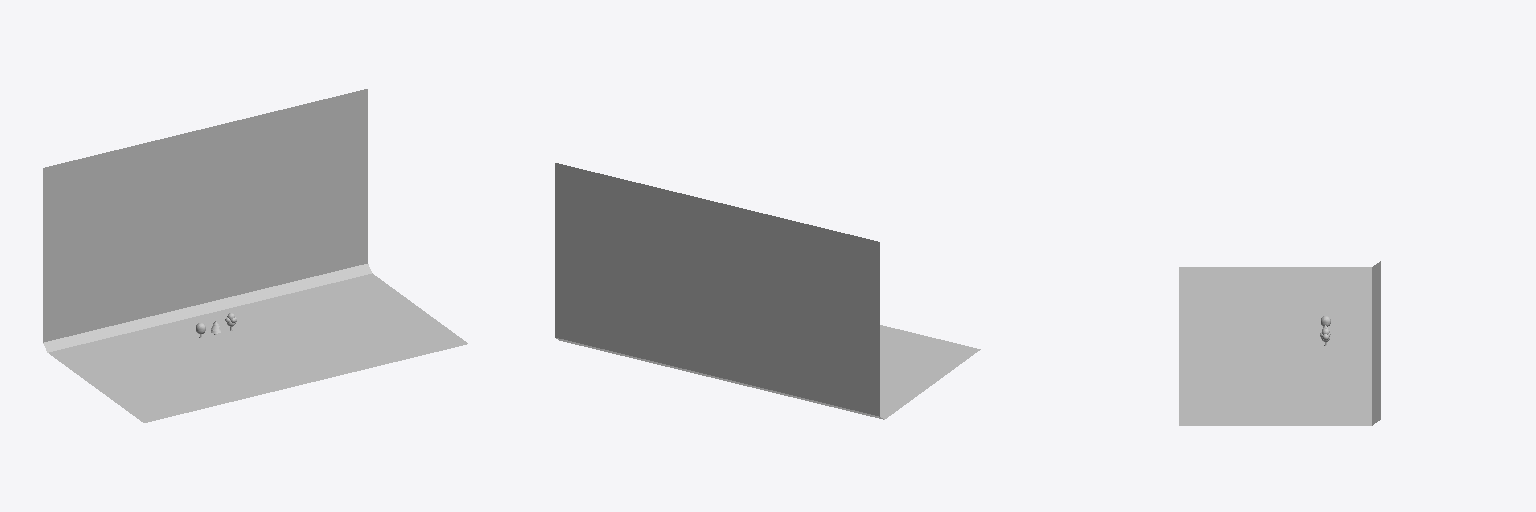
Rendered from Cartoon trees.obj.
3 renders of one model, left to right at view 1: azimuth 30°, elevation 25°; view 2: azimuth 150°, elevation 25°; view 3: azimuth 270°, elevation 25°, orthographic.
Parts seen in each view (by area): view 1: Plane; view 2: Plane; view 3: Plane.
Boxes of the visible parts, box(x1,y1,x2,y2) form: Plane: box(43, 89, 467, 422); Plane: box(555, 163, 980, 419); Plane: box(1179, 261, 1380, 425).
Bounding box in the file's own units: 484 × 258 × 260.